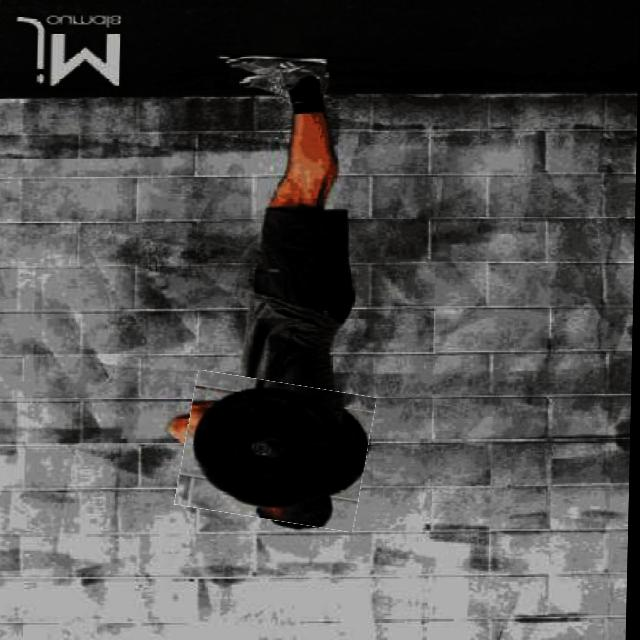barbell: (182, 378, 375, 526)
